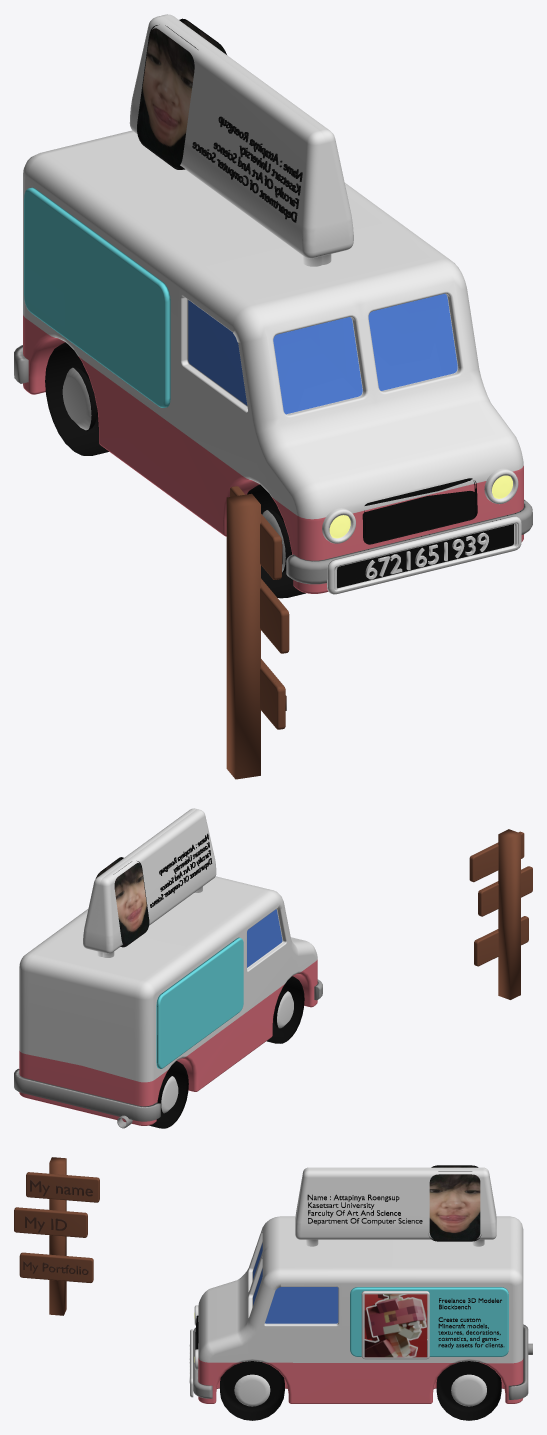
The model's file is van.glb.
The picture shows the model from 3 angles, top to bottom: view 1: azimuth 30°, elevation 25°; view 2: azimuth 150°, elevation 25°; view 3: azimuth 270°, elevation 25°; orthographic projection. The views are drawn at different scales.
Parts seen in each view (by area): view 1: Circle.371, Text.004, Text.001; view 2: Circle.371, Text.004; view 3: Circle.371, Text.004, Plane.001, Text, Plane.
Boxes of the visible parts, x1,y1,x2,y2 form: Circle.371: [14, 14, 532, 598]; Text.004: [226, 486, 289, 779]; Text.001: [365, 532, 488, 579]; Circle.371: [14, 808, 322, 1128]; Text.004: [469, 829, 532, 999]; Circle.371: [190, 1165, 528, 1420]; Text.004: [14, 1157, 99, 1315]; Plane.001: [364, 1294, 427, 1357]; Text: [438, 1298, 504, 1348]; Plane: [361, 1291, 429, 1359].
Size of what is drawn, in the model's own units: 7.63 by 6.66 by 13.92.
Materials: 13 (2 with a texture image).
